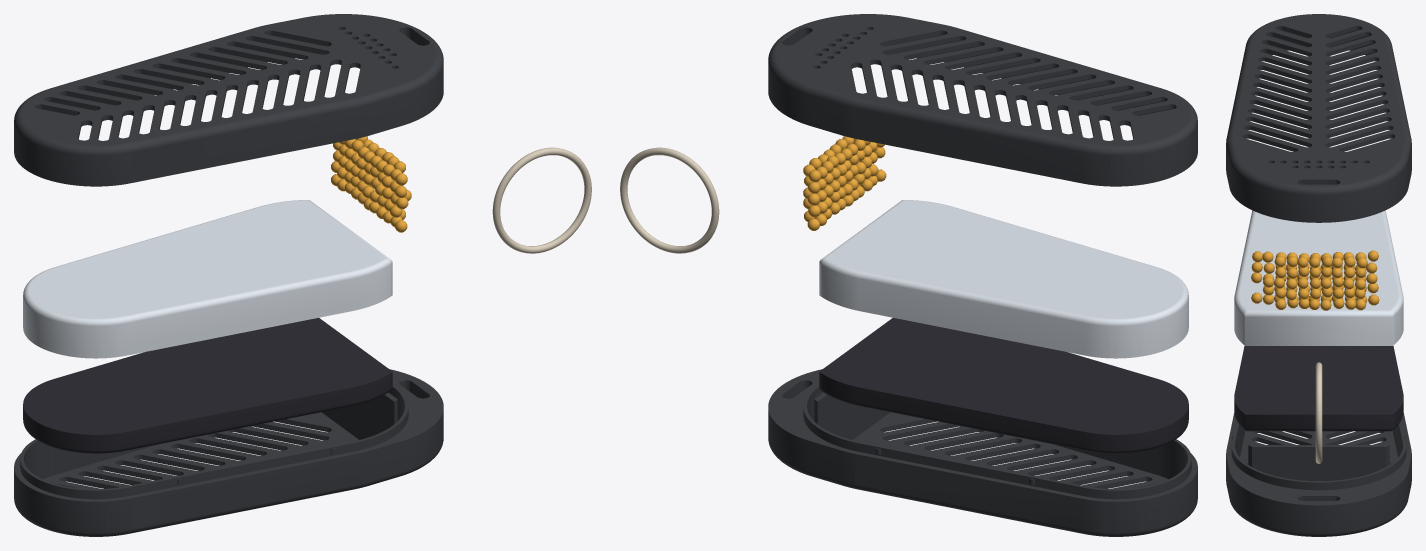
The model's file is solefresh_v3_2_L_exploded.glb.
3 renders of one model, left to right at view 1: azimuth 30°, elevation 25°; view 2: azimuth 150°, elevation 25°; view 3: azimuth 270°, elevation 25°, orthographic. The views are drawn at different scales.
Parts seen in each view (by area): view 1: shell_top, silica_sachet, shell_bottom, carbon_sachet, scent_beads, pull_cord; view 2: shell_top, silica_sachet, shell_bottom, carbon_sachet, scent_beads, pull_cord; view 3: shell_top, shell_bottom, silica_sachet, carbon_sachet, scent_beads, pull_cord.
Part boxes in pixels (<box>): shell_top: <box>14,14,443,186</box>; silica_sachet: <box>23,200,392,358</box>; shell_bottom: <box>14,369,443,536</box>; carbon_sachet: <box>23,318,392,453</box>; scent_beads: <box>331,136,411,232</box>; pull_cord: <box>492,147,591,253</box>; shell_top: <box>768,14,1197,186</box>; silica_sachet: <box>819,200,1188,358</box>; shell_bottom: <box>768,369,1197,536</box>; carbon_sachet: <box>819,318,1188,453</box>; scent_beads: <box>803,136,886,230</box>; pull_cord: <box>620,147,719,253</box>; shell_top: <box>1226,14,1411,222</box>; shell_bottom: <box>1226,413,1411,536</box>; silica_sachet: <box>1234,210,1403,345</box>; carbon_sachet: <box>1234,346,1403,431</box>; scent_beads: <box>1251,250,1379,310</box>; pull_cord: <box>1315,362,1322,463</box>.
Size of the model in its own units: 0.173 by 0.114 by 0.0548.
